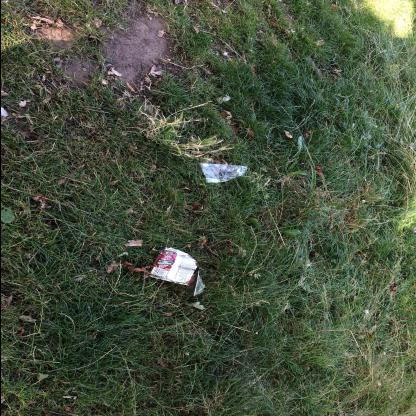plastik: (148, 246, 198, 286), (198, 163, 246, 183)
